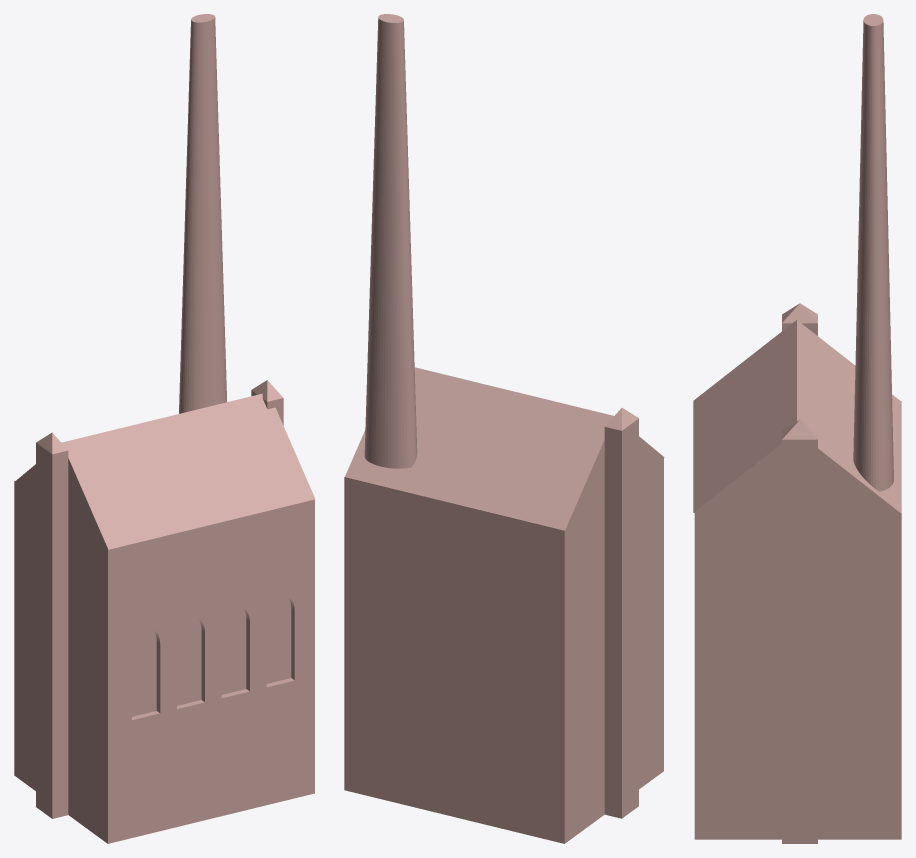
The model's file is verk1.glb.
The picture shows the model from 3 angles, left to right: view 1: azimuth 30°, elevation 25°; view 2: azimuth 150°, elevation 25°; view 3: azimuth 270°, elevation 25°; orthographic projection. The views are drawn at different scales.
Parts seen in each view (by area): view 1: Mesh_Mesh_head_geo.001_lambert2SG.001; view 2: Mesh_Mesh_head_geo.001_lambert2SG.001; view 3: Mesh_Mesh_head_geo.001_lambert2SG.001.
Boxes of the visible parts, x1,y1,x2,y2 form: Mesh_Mesh_head_geo.001_lambert2SG.001: (14, 14, 315, 843); Mesh_Mesh_head_geo.001_lambert2SG.001: (344, 14, 664, 843); Mesh_Mesh_head_geo.001_lambert2SG.001: (693, 14, 901, 843).
Size of the model in its own units: 0.115 by 0.344 by 0.081.
